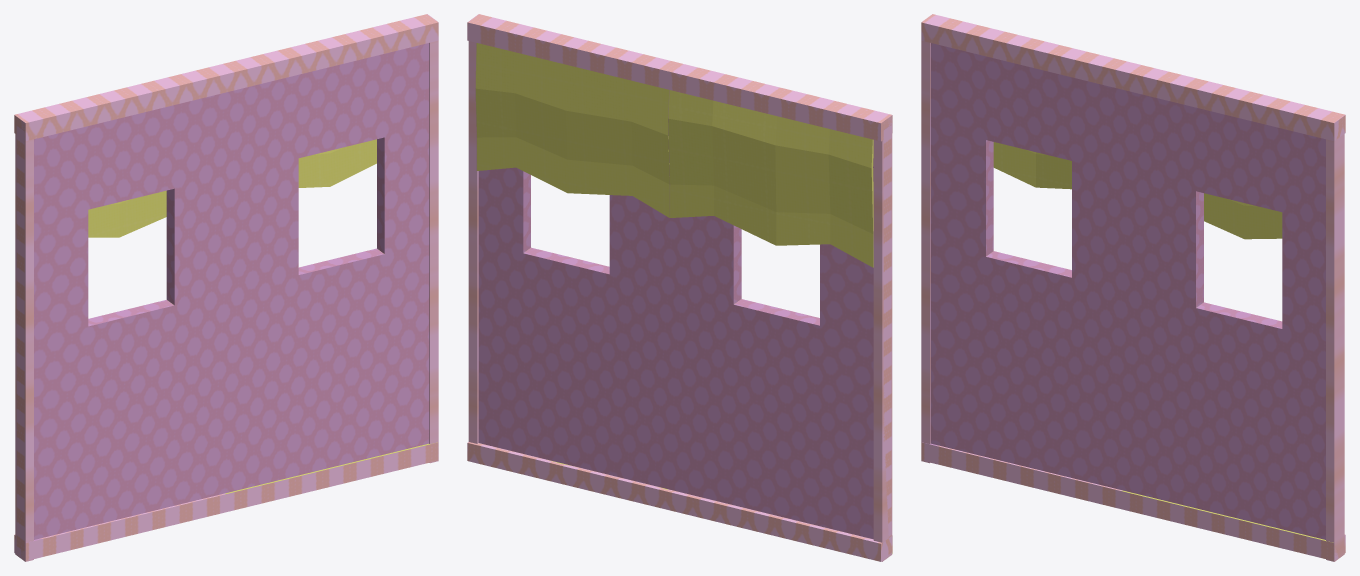
File: wall 1.fbx
3 views of the same model, side by side, from view 1: azimuth 30°, elevation 25°; view 2: azimuth 150°, elevation 25°; view 3: azimuth 330°, elevation 25° (orthographic).
Parts seen in each view (by area): view 1: Wall; view 2: Wall; view 3: Wall.
Part boxes in pixels (x1=…): Wall: x1=14, y1=14, x2=438, y2=561; Wall: x1=467, y1=14, x2=892, y2=561; Wall: x1=921, y1=14, x2=1345, y2=561.
Size of the model in its own units: 4763 by 4834 by 255.
